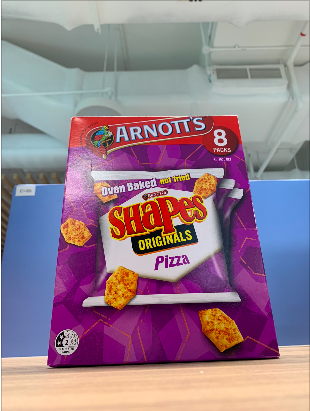Crackers_200-299g: (62, 139, 249, 348)
